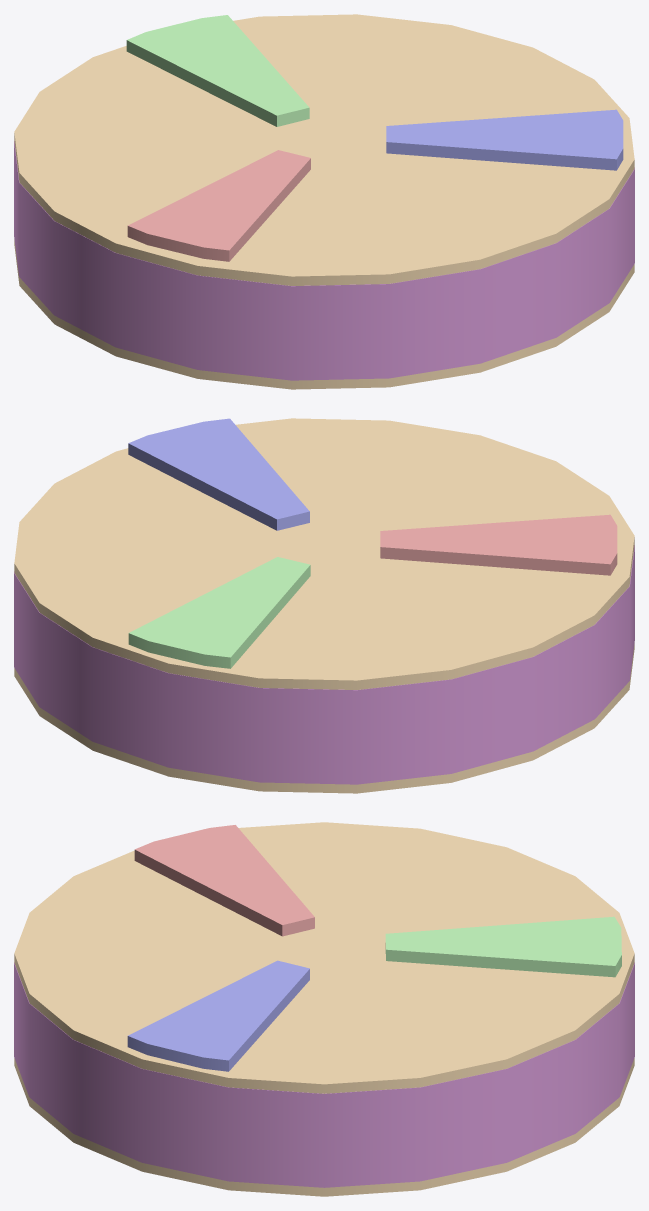
File: HVArena3 1.fbx
3 views of the same model, one above another, from view 1: azimuth 30°, elevation 25°; view 2: azimuth 150°, elevation 25°; view 3: azimuth 270°, elevation 25° (orthographic).
Parts seen in each view (by area): view 1: pCylinder3, polySurface1, pCube3, pCube1, pCube2, pCylinder2; view 2: pCylinder3, polySurface1, pCube1, pCube2, pCube3, pCylinder2; view 3: pCylinder3, polySurface1, pCube2, pCube3, pCube1, pCylinder2.
Part boxes in pixels (x1,y1,x2,y2): pCylinder3: (14, 14, 634, 285); polySurface1: (14, 141, 634, 380); pCube3: (386, 109, 623, 170); pCube1: (127, 150, 310, 261); pCube2: (126, 15, 309, 126); pCylinder2: (14, 240, 634, 389); pCylinder3: (14, 418, 634, 689); polySurface1: (14, 545, 634, 784); pCube1: (380, 514, 617, 575); pCube2: (128, 557, 310, 668); pCube3: (128, 418, 309, 530); pCylinder2: (14, 644, 634, 793); pCylinder3: (14, 822, 634, 1093); polySurface1: (14, 962, 634, 1187); pCube2: (385, 916, 621, 977); pCube3: (127, 960, 309, 1071); pCube1: (134, 825, 314, 936); pCylinder2: (14, 1058, 634, 1196).
Size of the model in its own units: 19.45 by 4.28 by 19.45.
